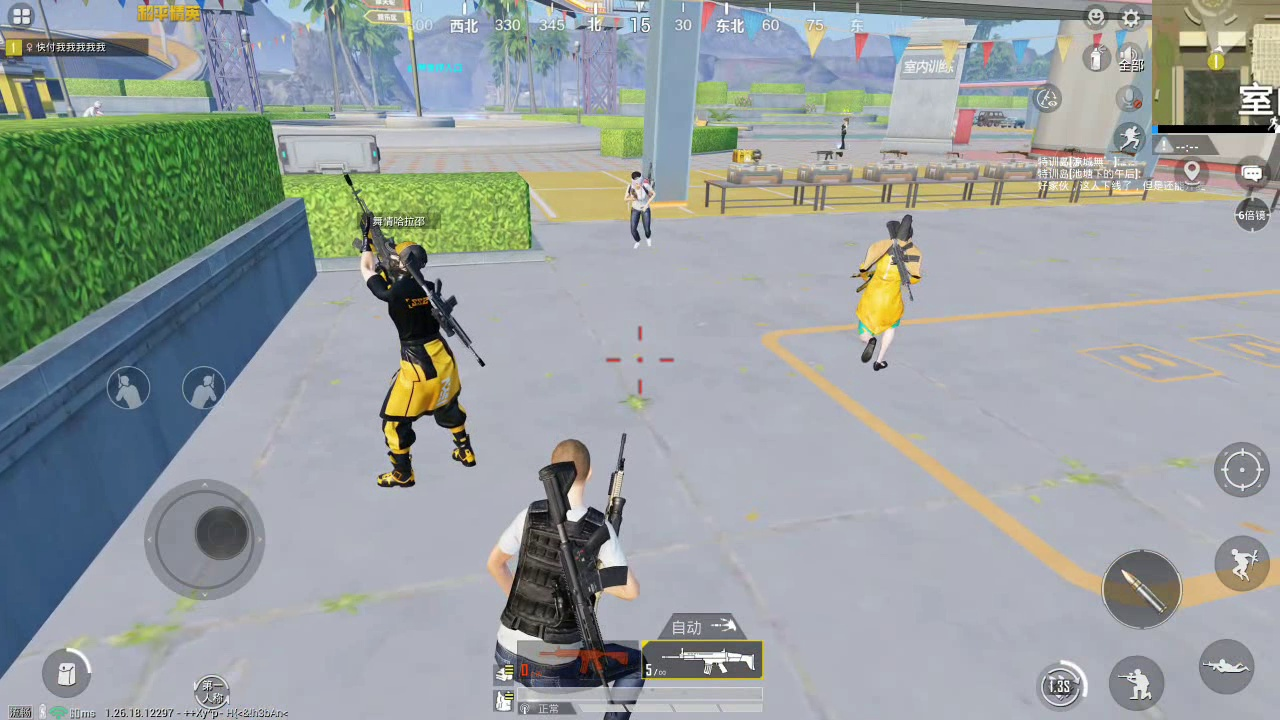enemy: (366, 238, 480, 490), (852, 219, 918, 374), (623, 167, 658, 247)
